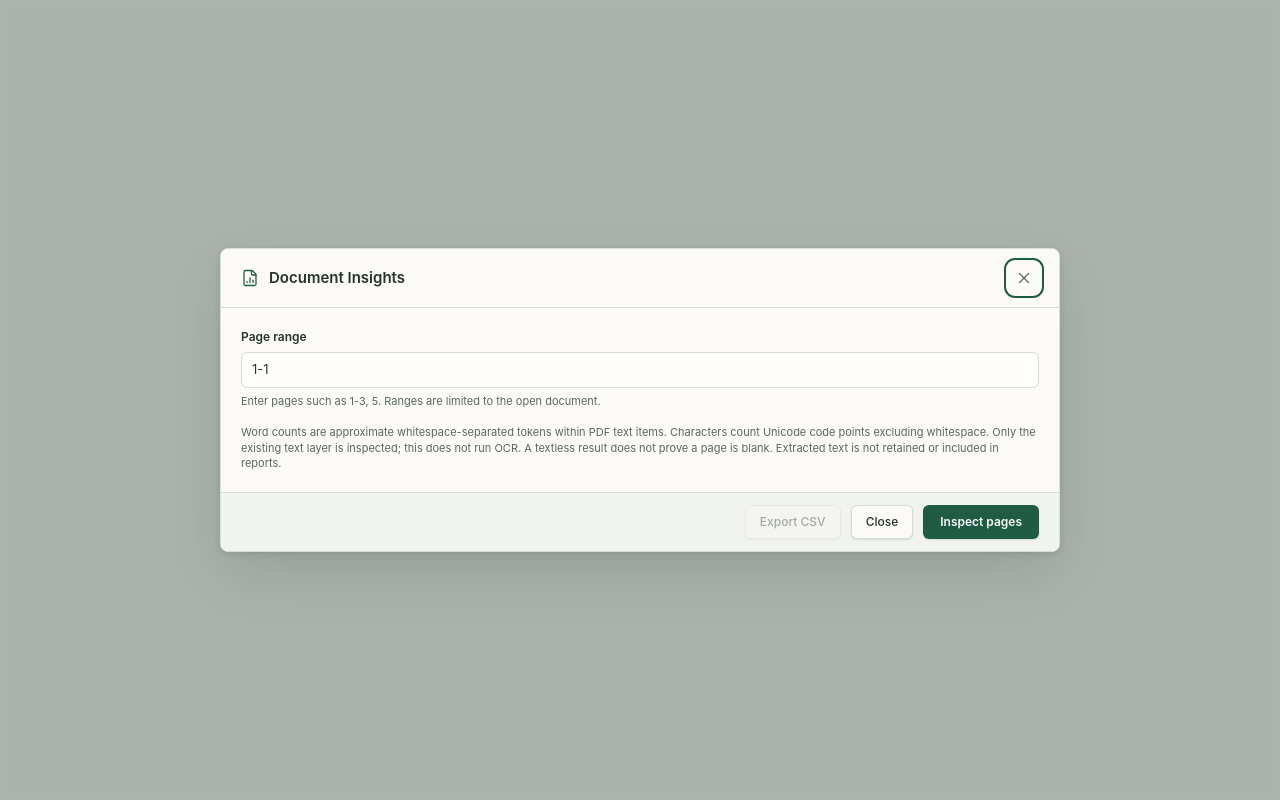
Test: DocumentInsightsDialog › does not classify failed text extraction as a textless page
Click the button "Inspect pages".
click(981, 522)  # box [923, 504, 1039, 538]
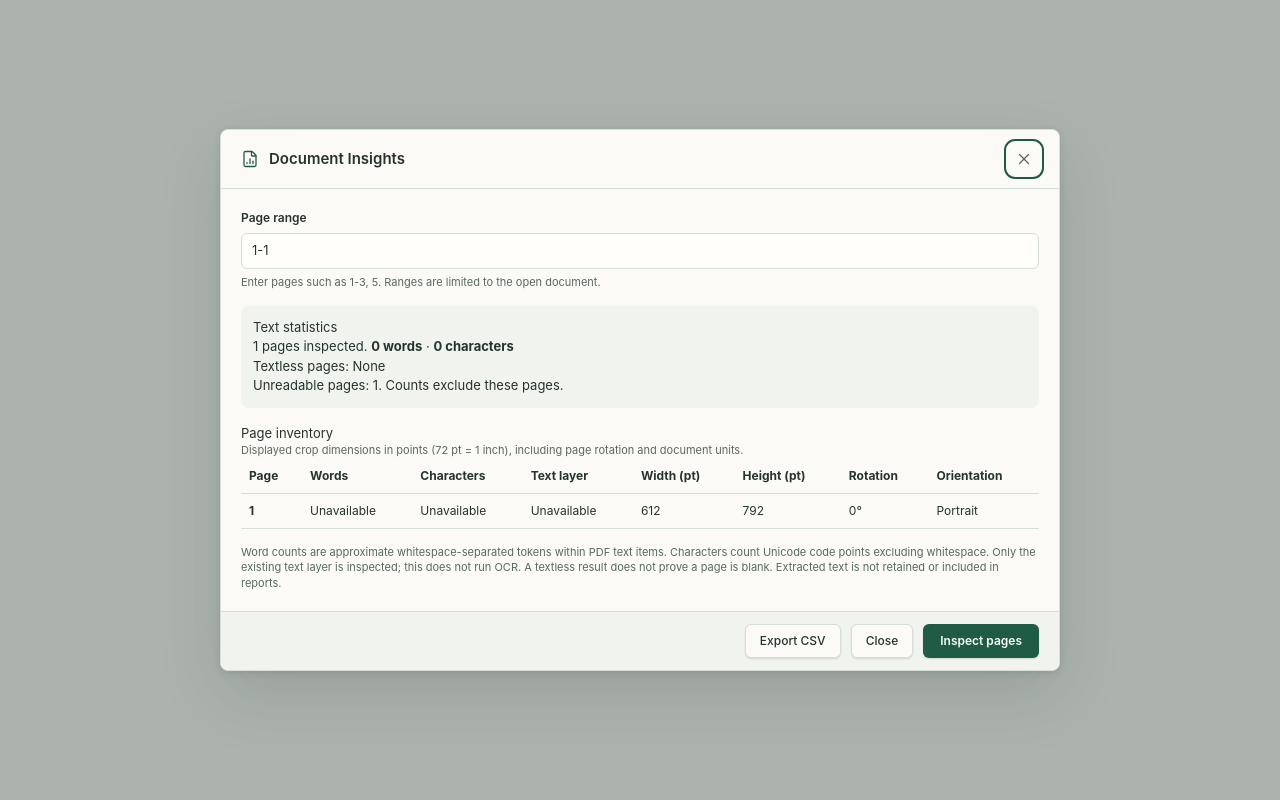
Now the text "Unreadable pages: 1. Counts exclude these pages." is shown, box [253, 377, 564, 393]
Now the text "Textless pages: None" is shown, box [253, 358, 385, 374]
Now the text "Unavailable" is shown 3 times, box [302, 493, 412, 528]; [412, 493, 523, 528]; [523, 493, 633, 528]
